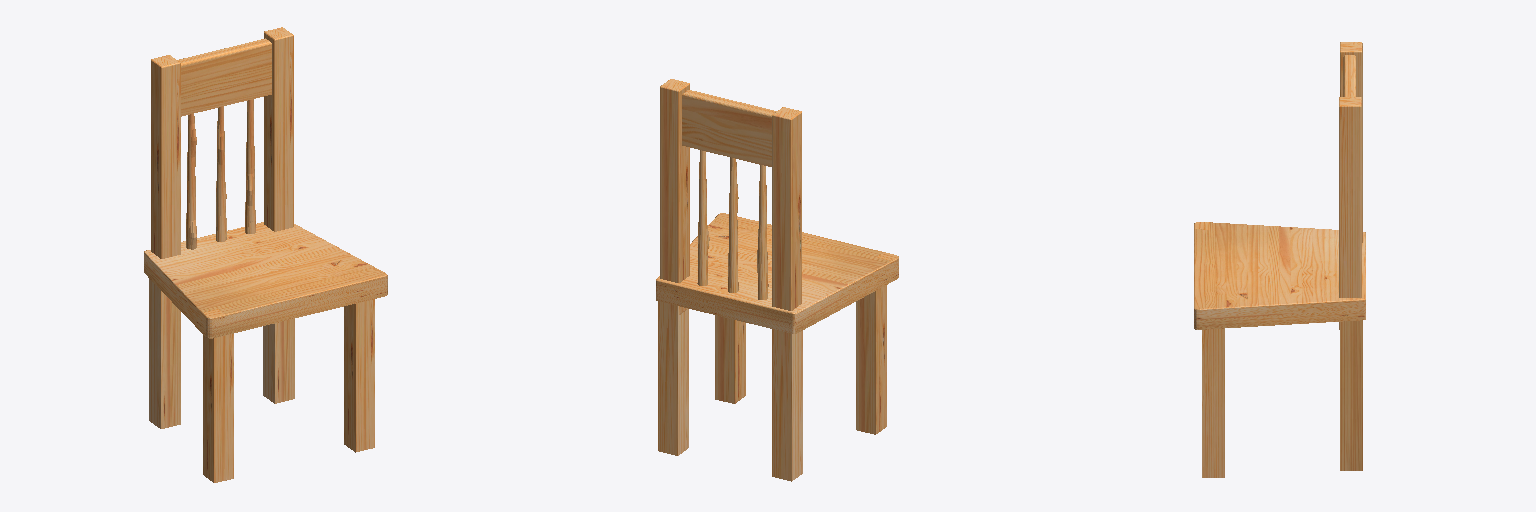
3 views of the same model, side by side, from view 1: azimuth 30°, elevation 25°; view 2: azimuth 150°, elevation 25°; view 3: azimuth 270°, elevation 25° (orthographic).
Parts seen in each view (by area): view 1: silla.001; view 2: silla.001; view 3: silla.001.
Part boxes in pixels (x1,y1,x2,y2): silla.001: (144,27,387,482); silla.001: (656,79,898,481); silla.001: (1194,42,1365,477).
Size of the model in its own units: 10.17 by 19.75 by 8.41.
Materials: 1 (1 with a texture image).